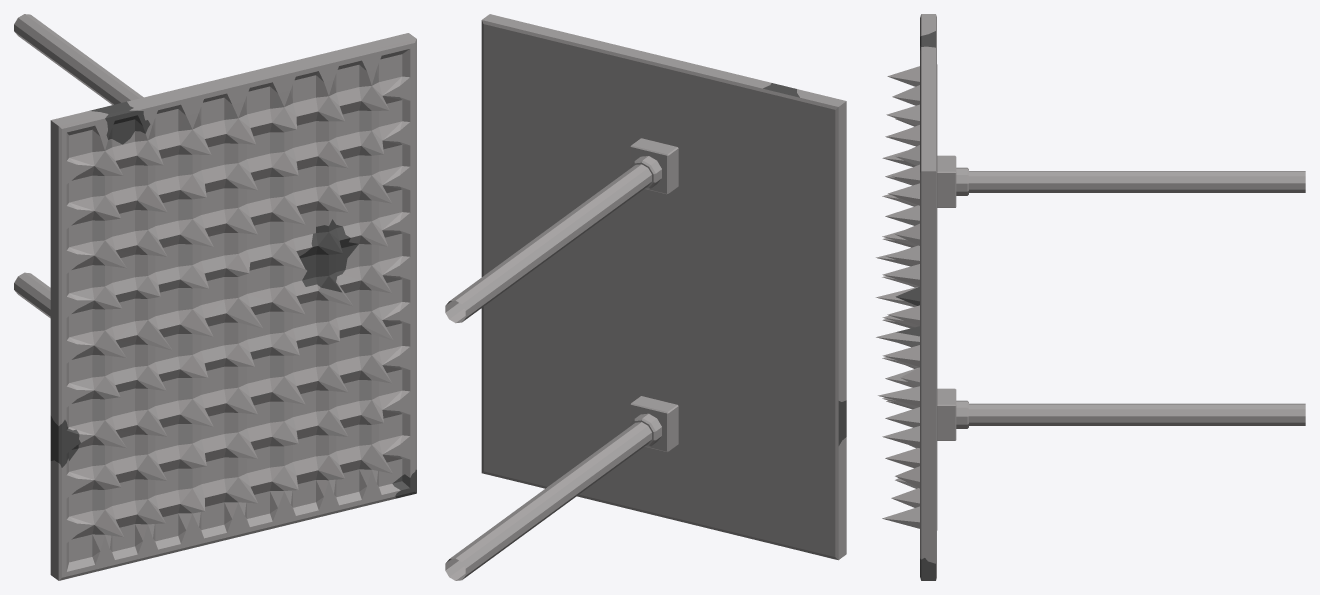
The model's file is LGEMetalSpikeTrapWall.fbx.
3 renders of one model, left to right at view 1: azimuth 30°, elevation 25°; view 2: azimuth 150°, elevation 25°; view 3: azimuth 270°, elevation 25°, orthographic. The views are drawn at different scales.
Parts seen in each view (by area): view 1: LGEMetalSpikeTrapWall; view 2: LGEMetalSpikeTrapWall; view 3: LGEMetalSpikeTrapWall.
Boxes of the visible parts, x1,y1,x2,y2 form: LGEMetalSpikeTrapWall: (14,14,416,580); LGEMetalSpikeTrapWall: (445,14,846,580); LGEMetalSpikeTrapWall: (875,14,1305,580).
Bounding box in the file's own units: 232 × 281 × 268.
